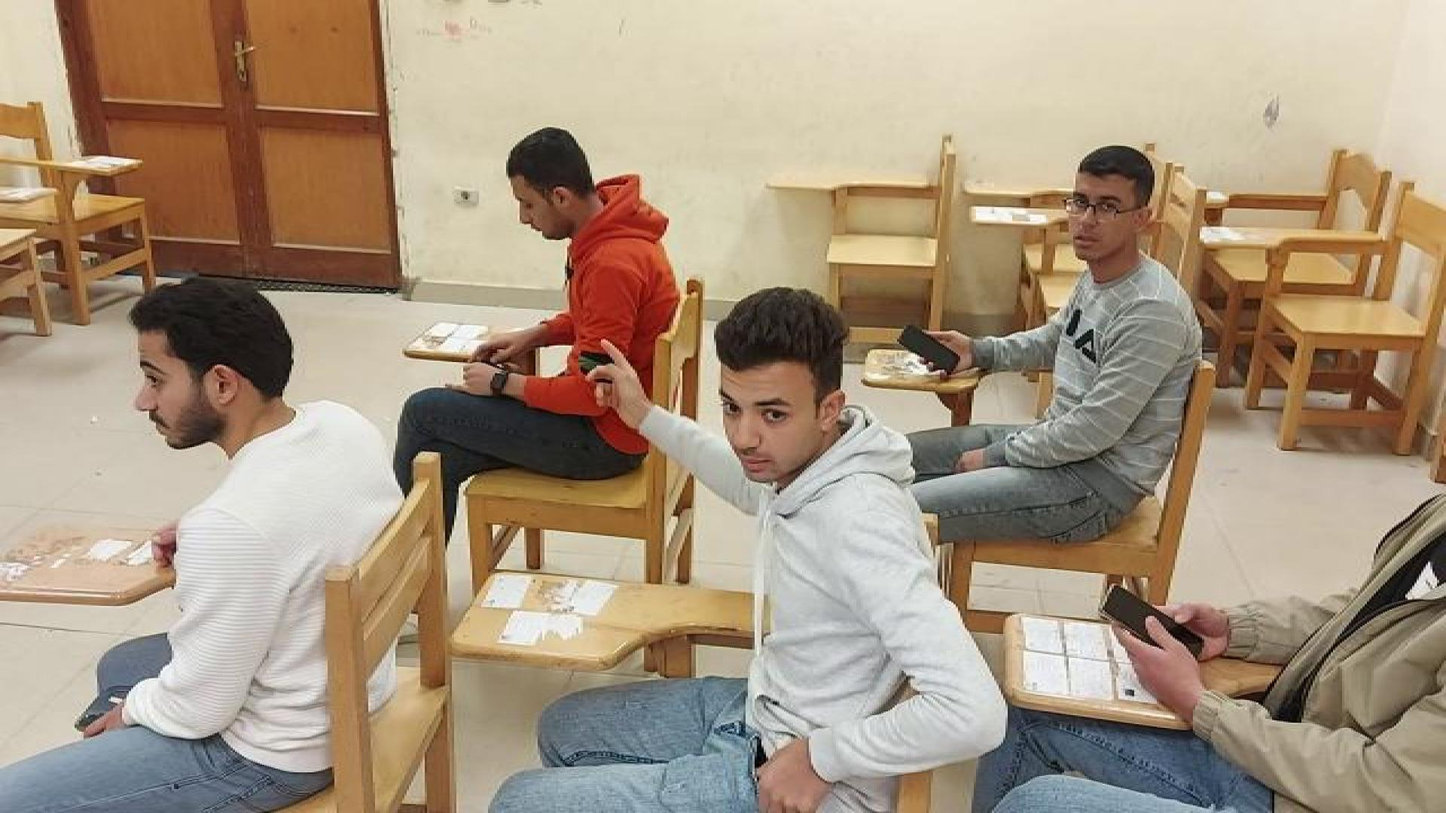phone: (1097, 581, 1221, 662), (898, 323, 970, 379), (75, 689, 167, 727)
